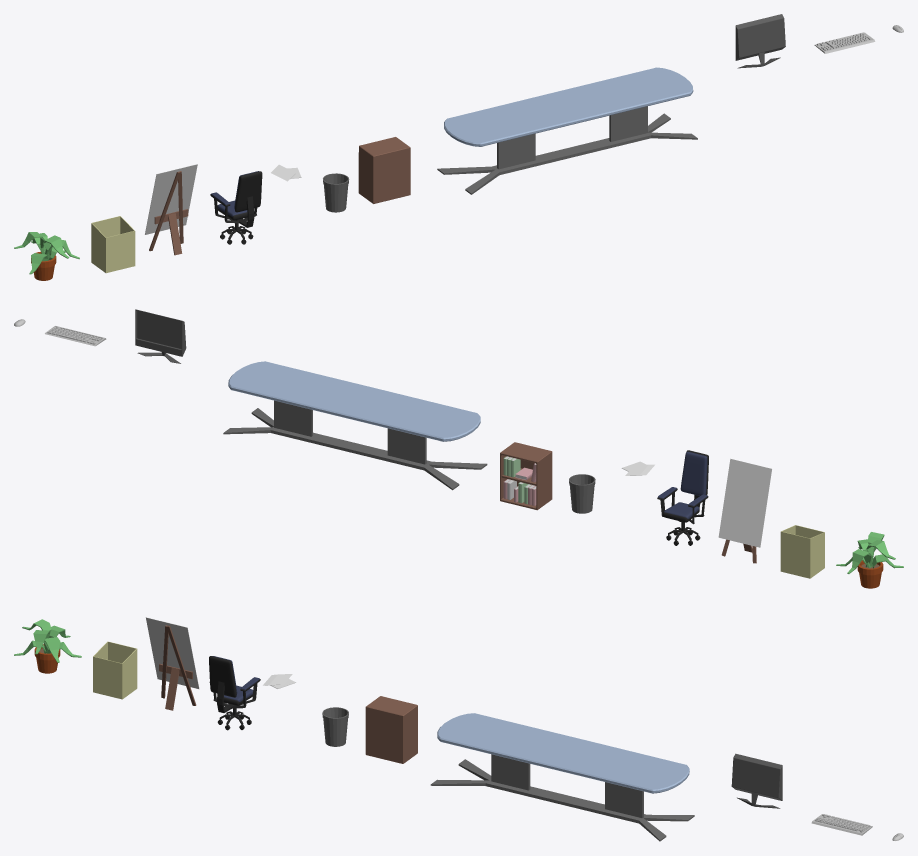
Rendered from LowPolyMeetingRoomAssets.fbx.
The picture shows the model from 3 angles, top to bottom: view 1: azimuth 30°, elevation 25°; view 2: azimuth 150°, elevation 25°; view 3: azimuth 330°, elevation 25°; orthographic projection.
Parts seen in each view (by area): view 1: pCylinder32, pCube298, pCube142, square_bin, white, pCube19, pCube141, pCube140, round_bin, pCube135; view 2: pCylinder32, white, pCube142, square_bin, pCube298, pCube19, pCube141, pCube140, pCube131, round_bin; view 3: pCylinder32, pCube298, pCube142, square_bin, white, pCube19, pCube141, pCube140, round_bin, pCube135, pCube137.
Boxes of the visible parts, box(x1,y1,x2,y2) form: pCylinder32: box(444, 67, 693, 146); pCube298: box(358, 137, 410, 203); pCube142: box(437, 113, 697, 194); square_bin: box(91, 216, 135, 273); white: box(145, 164, 197, 234); pCube19: box(735, 14, 785, 60); pCube141: box(497, 133, 535, 169); pCube140: box(609, 106, 647, 141); round_bin: box(323, 173, 349, 212); pCube135: box(235, 171, 262, 212); pCylinder32: box(228, 361, 480, 441); white: box(718, 458, 771, 547); pCube142: box(223, 408, 487, 490); square_bin: box(780, 525, 824, 578); pCube298: box(500, 442, 552, 510); pCube19: box(135, 309, 186, 356); pCube141: box(387, 428, 426, 464); pCube140: box(274, 400, 312, 436); pCube131: box(680, 451, 707, 495); round_bin: box(569, 474, 595, 513); pCylinder32: box(437, 713, 689, 793); pCube298: box(365, 696, 417, 763); pCube142: box(430, 759, 694, 841); square_bin: box(93, 641, 137, 699); white: box(145, 617, 199, 688); pCube19: box(731, 753, 782, 800); pCube141: box(491, 754, 530, 790); pCube140: box(605, 782, 643, 817); round_bin: box(322, 707, 348, 746); pCube135: box(209, 656, 236, 697); pCube137: box(213, 681, 257, 712).
Size of the model in its own units: 116 by 11.83 by 9.53.
